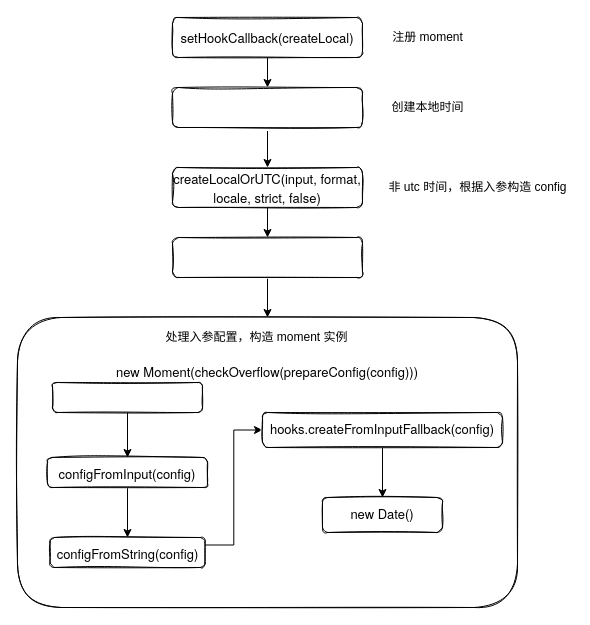
This 590x625 diagram has some shape labels left out. Here are the shapes that lost their labels. From the top down, the centre of each, then its label:
At pixel 267 107: "createLocal(input, format, locale, strict)".
At pixel 267 257: "createFromConfig(config)".
At pixel 127 397: "prepareConfig(config)".
